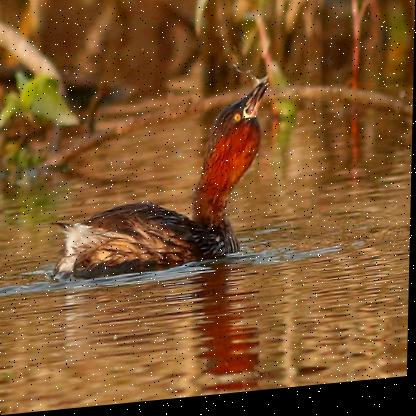Burung: (54, 86, 268, 277)
